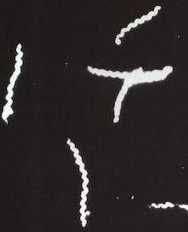sphyillis: (86, 64, 173, 123), (67, 138, 91, 226), (112, 4, 163, 45), (1, 42, 22, 122), (147, 199, 188, 214)
